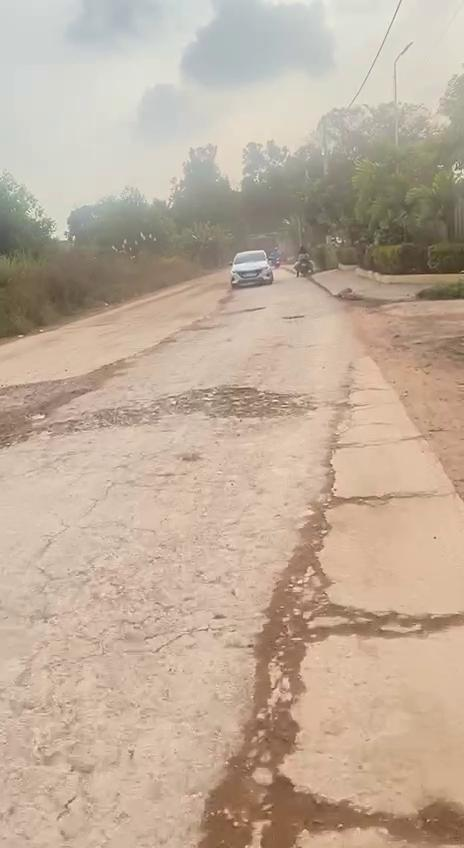pothole: (248, 546, 443, 712), (196, 740, 464, 848)
